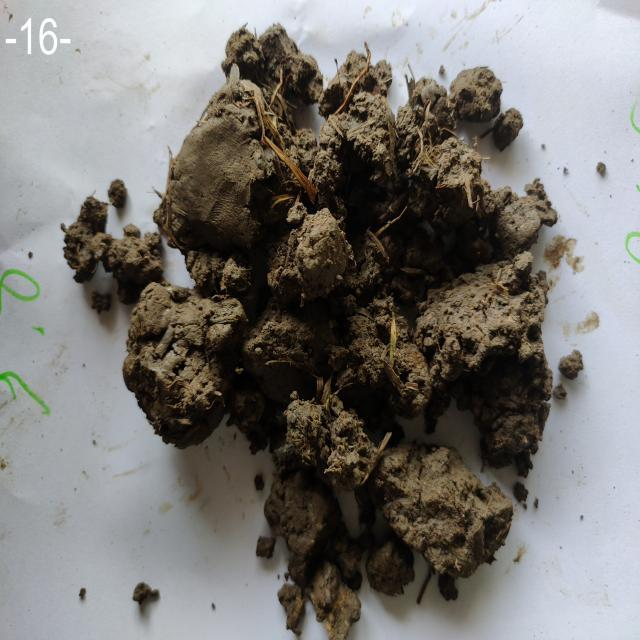soil: (244, 126, 482, 456)
